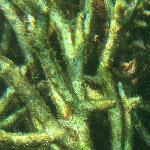dead: (1, 4, 145, 145)
